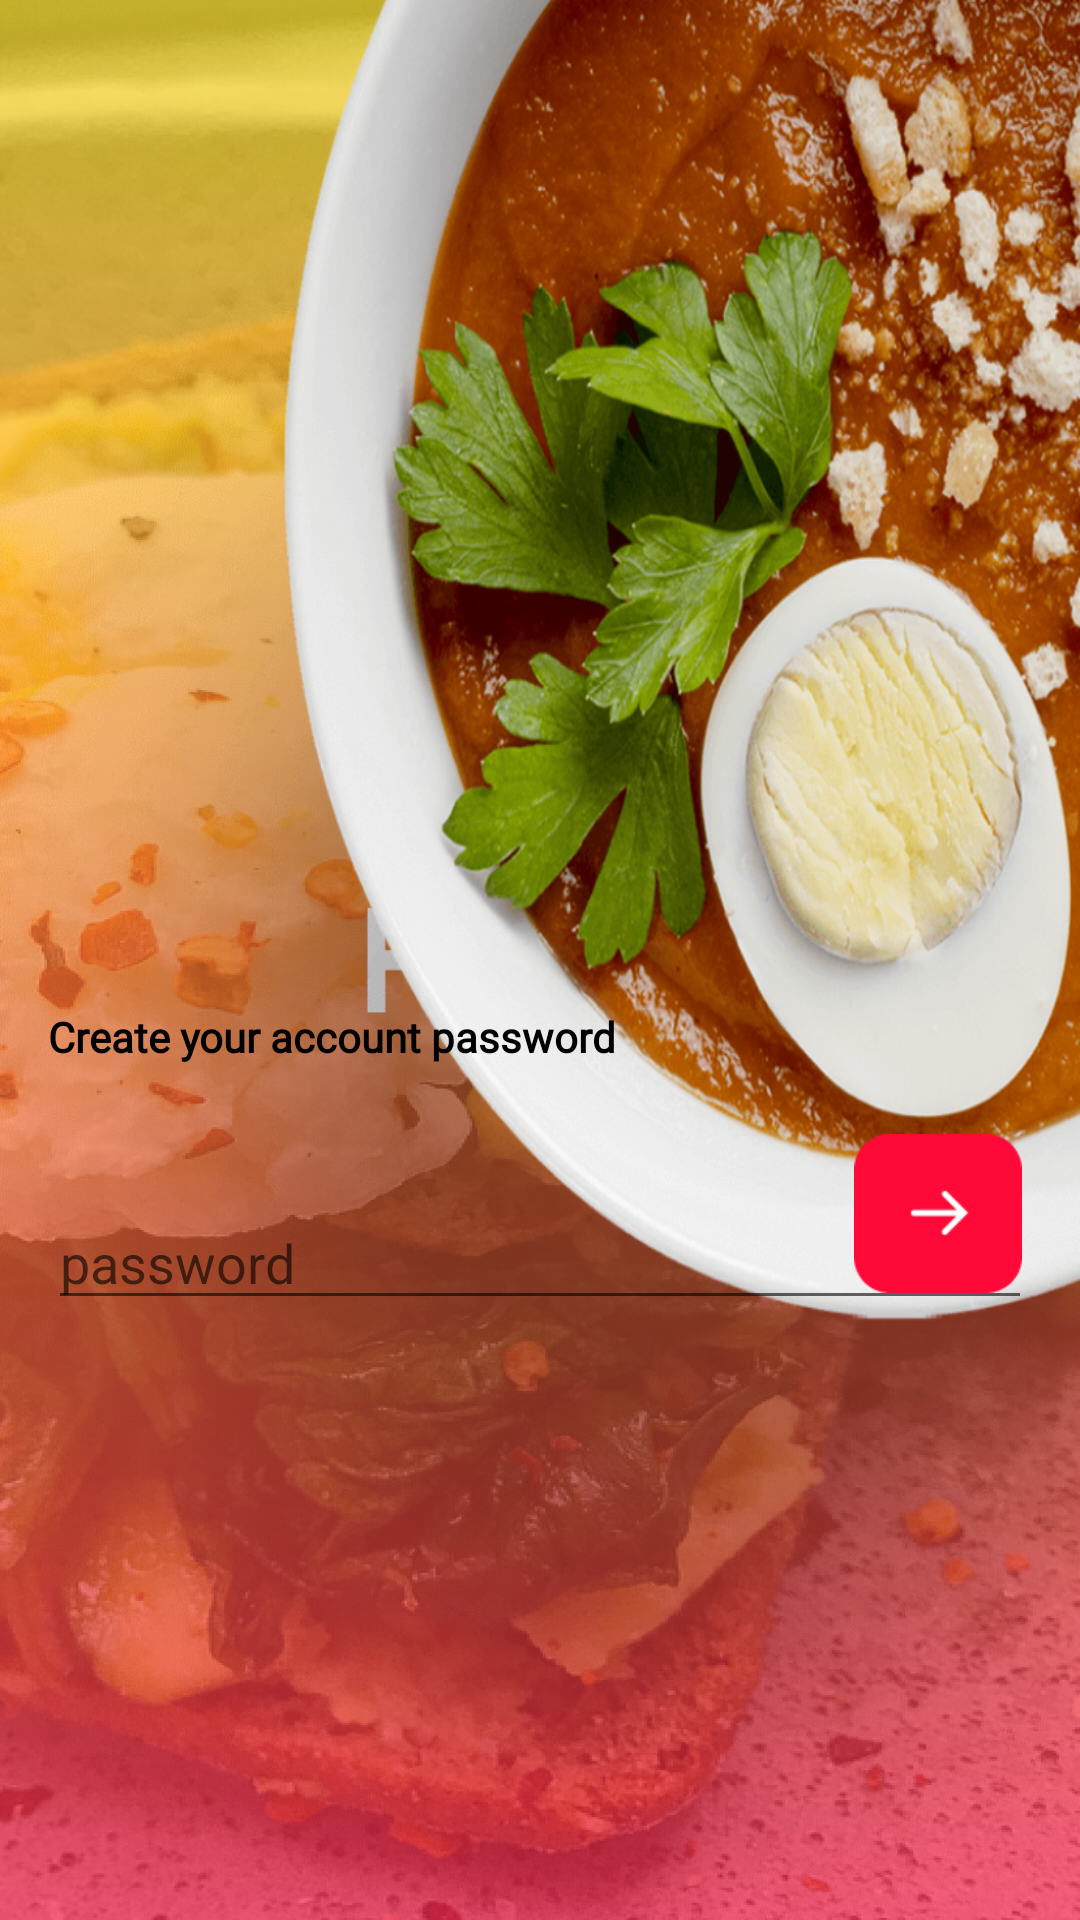

Named icons in this screenshot (1080*1920) and their centers, [x,y]:
custom next: [943,1213]
